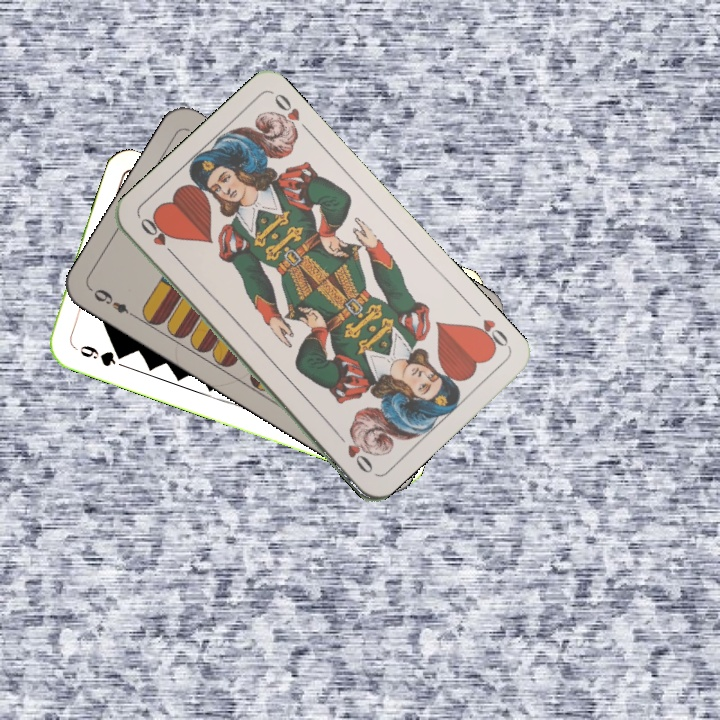E9: (89, 285, 140, 322)
G9: (68, 340, 128, 369)
HO: (466, 303, 512, 355), (136, 213, 180, 262)
